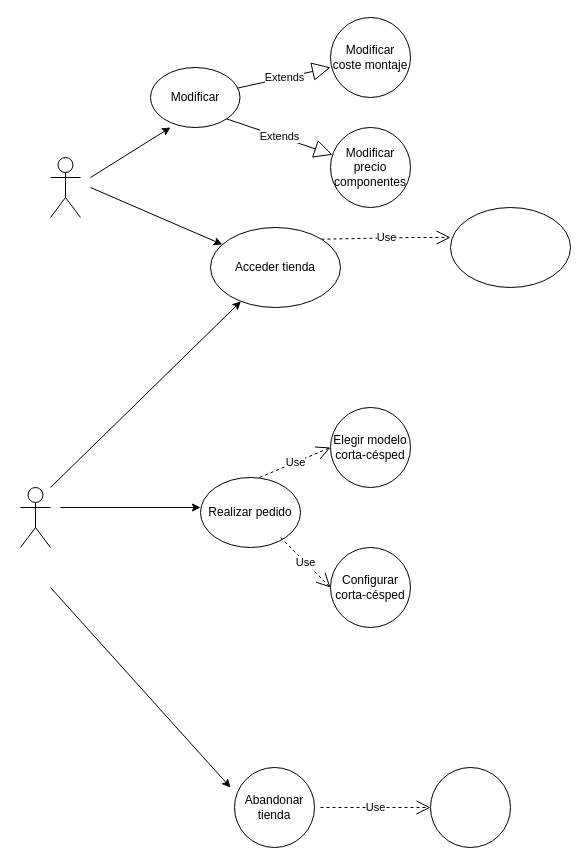
Image size: 588x865. Some labels were removed from this diagram. Here are the shapes that lost their labels. From the top down, the centre of each, then its label:
At point (65, 187): "Administrador".
At point (510, 247): "Introducir nombre de usuario y contraseña".
At point (35, 517): "Cliente".
At point (470, 807): "Vaciar carrito".
